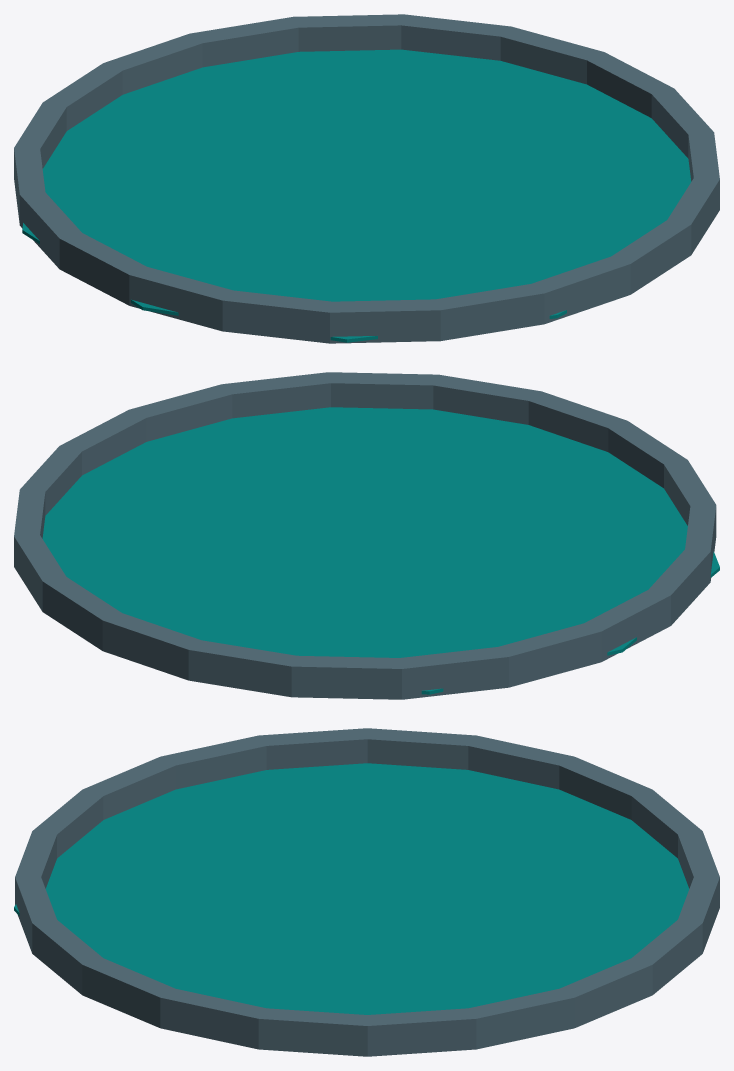
The model's file is Round gate.fbx.
3 renders of one model, top to bottom at view 1: azimuth 30°, elevation 25°; view 2: azimuth 150°, elevation 25°; view 3: azimuth 270°, elevation 25°, orthographic.
Parts seen in each view (by area): view 1: Round gate; view 2: Round gate; view 3: Round gate.
Boxes of the visible parts, x1=… form: Round gate: x1=14, y1=14, x2=719, y2=343; Round gate: x1=14, y1=372, x2=719, y2=699; Round gate: x1=14, y1=728, x2=719, y2=1056.
Size of the model in its own units: 254 by 12.22 by 255.
